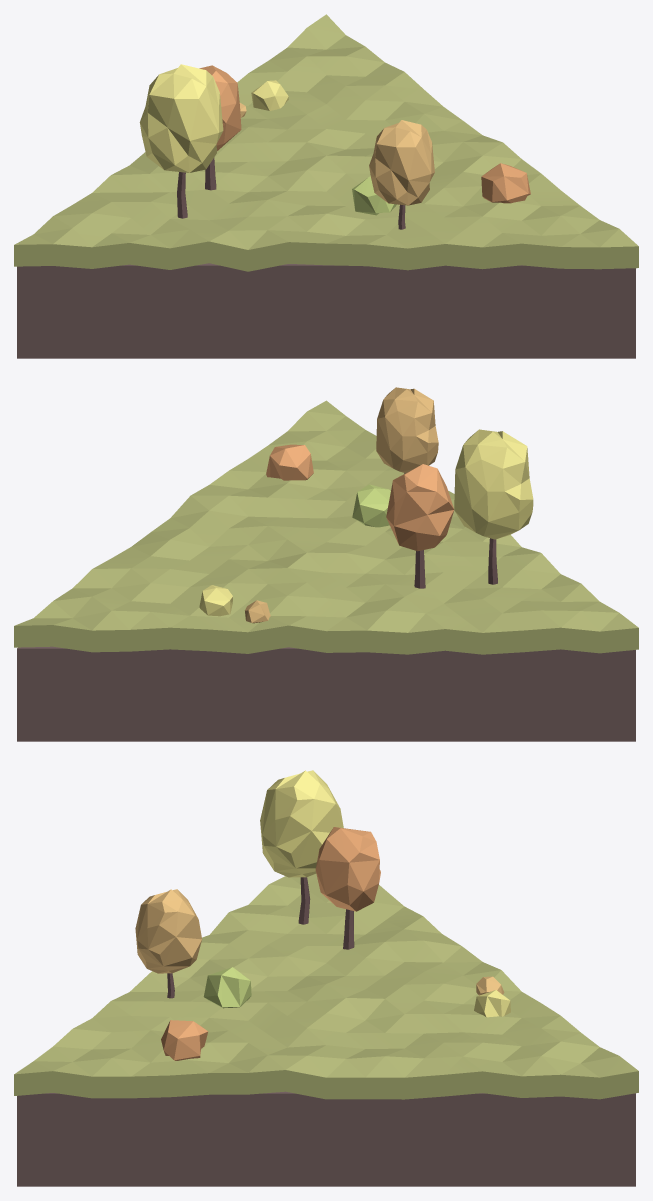
The model's file is TILE_02_04_Autumn.fbx.
3 renders of one model, top to bottom at view 1: azimuth 30°, elevation 25°; view 2: azimuth 150°, elevation 25°; view 3: azimuth 270°, elevation 25°, orthographic.
Parts seen in each view (by area): view 1: TILESURFACE7 (2), TILE14, pCube5, pCube5 1, bush1, pCube3, bush2, bush3; view 2: TILESURFACE7 (2), TILE14, pCube5, pCube3, pCube5 1, bush1, bush2, bush3; view 3: TILESURFACE7 (2), TILE14, pCube5, pCube5 1, pCube3, bush1, bush2, bush3.
Boxes of the visible parts, x1,y1,x2,y2 form: TILESURFACE7 (2): [14, 14, 638, 271]; TILE14: [17, 263, 635, 358]; pCube5: [139, 64, 223, 172]; pCube5 1: [369, 120, 434, 205]; bush1: [481, 163, 530, 203]; pCube3: [199, 65, 241, 150]; bush2: [352, 176, 396, 215]; bush3: [251, 80, 288, 110]; TILESURFACE7 (2): [14, 400, 638, 654]; TILE14: [17, 646, 635, 741]; pCube5: [454, 429, 533, 539]; pCube3: [386, 464, 454, 551]; pCube5 1: [376, 387, 438, 473]; bush1: [266, 444, 313, 480]; bush2: [352, 484, 390, 527]; bush3: [199, 585, 232, 616]; TILESURFACE7 (2): [14, 874, 638, 1099]; TILE14: [17, 1091, 635, 1186]; pCube5: [260, 770, 343, 877]; pCube5 1: [135, 889, 201, 973]; pCube3: [315, 827, 380, 911]; bush1: [161, 1020, 208, 1060]; bush2: [203, 967, 251, 1008]; bush3: [474, 990, 510, 1017].
Bounding box in the file's own units: 151 × 81.69 × 175.
